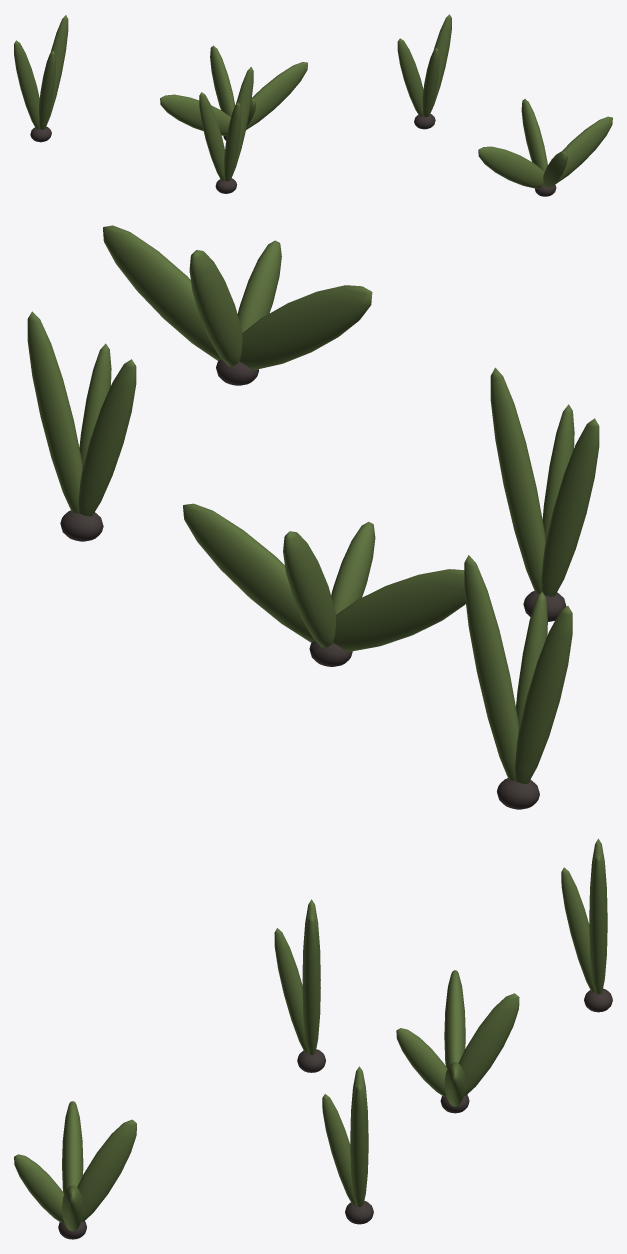
Rendered from CMU3DRMCGrassb1.glb.
3 renders of one model, top to bottom at view 1: azimuth 30°, elevation 25°; view 2: azimuth 150°, elevation 25°; view 3: azimuth 270°, elevation 25°, orthographic. The views are drawn at different scales.
Parts seen in each view (by area): view 1: tuft 4 continuous leaf 0, tuft 1 continuous leaf 1, tuft 4 continuous leaf 1, tuft 1 continuous leaf 0, tuft 3 continuous leaf 0, tuft 0 continuous leaf 0, tuft 2 continuous leaf 0, tuft 4 continuous leaf 2, tuft 1 continuous leaf 2, tuft 3 continuous leaf 2, tuft 0 continuous leaf 2, tuft 0 continuous leaf 1 (+4 smaller); view 2: tuft 1 continuous leaf 0, tuft 4 continuous leaf 0, tuft 1 continuous leaf 1, tuft 3 continuous leaf 1, tuft 0 continuous leaf 1, tuft 4 continuous leaf 1, tuft 2 continuous leaf 1, tuft 3 continuous leaf 0, tuft 0 continuous leaf 0, tuft 2 continuous leaf 0, tuft 1 continuous leaf 2, tuft 4 continuous leaf 2 (+7 smaller); view 3: tuft 1 continuous leaf 2, tuft 4 continuous leaf 2, tuft 0 continuous leaf 1, tuft 3 continuous leaf 1, tuft 2 continuous leaf 1, tuft 0 continuous leaf 2, tuft 3 continuous leaf 2, tuft 1 continuous leaf 0, tuft 1 continuous leaf 3, tuft 4 continuous leaf 3, tuft 2 continuous leaf 2, tuft 4 continuous leaf 0 (+2 smaller).
Boxes of the visible parts, box(x1,y1,x2,y2) form: tuft 4 continuous leaf 0: box(478, 146, 544, 188); tuft 1 continuous leaf 1: box(246, 62, 307, 129); tuft 4 continuous leaf 1: box(555, 116, 612, 184); tuft 1 continuous leaf 0: box(160, 94, 230, 135); tuft 3 continuous leaf 0: box(199, 92, 225, 180); tuft 0 continuous leaf 0: box(14, 40, 39, 129); tuft 2 continuous leaf 0: box(397, 38, 423, 116); tuft 4 continuous leaf 2: box(521, 99, 547, 171); tuft 1 continuous leaf 2: box(210, 45, 235, 116); tuft 3 continuous leaf 2: box(224, 102, 241, 181); tuft 0 continuous leaf 2: box(39, 51, 55, 129); tuft 0 continuous leaf 1: box(46, 15, 68, 126); tuft 1 continuous leaf 0: box(333, 569, 465, 651); tuft 4 continuous leaf 0: box(240, 285, 372, 369); tuft 1 continuous leaf 1: box(183, 503, 315, 642); tuft 3 continuous leaf 1: box(490, 367, 545, 593); tuft 0 continuous leaf 1: box(464, 555, 518, 780); tuft 4 continuous leaf 1: box(103, 225, 221, 360); tuft 2 continuous leaf 1: box(27, 311, 82, 513); tuft 3 continuous leaf 0: box(541, 418, 599, 596); tuft 0 continuous leaf 0: box(515, 606, 572, 783); tuft 2 continuous leaf 0: box(78, 359, 136, 516); tuft 1 continuous leaf 2: box(283, 531, 335, 647); tuft 4 continuous leaf 2: box(189, 250, 242, 366); tuft 1 continuous leaf 2: box(458, 993, 519, 1095); tuft 4 continuous leaf 2: box(77, 1119, 136, 1221); tuft 0 continuous leaf 1: box(589, 854, 607, 994); tuft 3 continuous leaf 1: box(302, 915, 320, 1054); tuft 2 continuous leaf 1: box(350, 1084, 368, 1206); tuft 0 continuous leaf 2: box(561, 867, 594, 992); tuft 3 continuous leaf 2: box(274, 928, 307, 1052); tuft 1 continuous leaf 0: box(444, 970, 465, 1068); tuft 1 continuous leaf 3: box(396, 1028, 447, 1096); tuft 4 continuous leaf 3: box(14, 1154, 64, 1222); tuft 2 continuous leaf 2: box(322, 1094, 355, 1204); tuft 4 continuous leaf 0: box(62, 1101, 83, 1193).
Bounding box in the file's own units: 0.9086 × 0.2506 × 0.7832.
